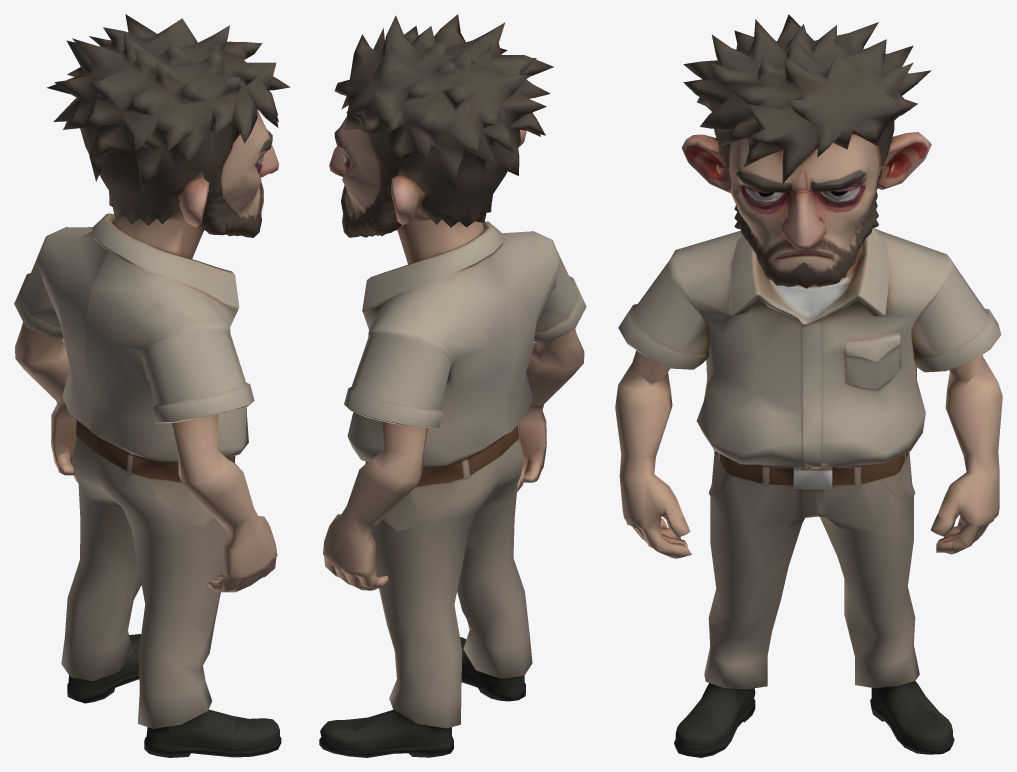
Rendered from Gemini_Generated_Image_n1gkvin1gkvin1gk.png.glb.
3 renders of one model, left to right at view 1: azimuth 30°, elevation 25°; view 2: azimuth 150°, elevation 25°; view 3: azimuth 270°, elevation 25°, orthographic. The views are drawn at different scales.
Visible parts, largest first — view 1: tripo_node_8a759021-f8c1-4cbb-924f-a9d1c90841c0; view 2: tripo_node_8a759021-f8c1-4cbb-924f-a9d1c90841c0; view 3: tripo_node_8a759021-f8c1-4cbb-924f-a9d1c90841c0.
Boxes of the visible parts, x1,y1,x2,y2 form: tripo_node_8a759021-f8c1-4cbb-924f-a9d1c90841c0: (14,14,290,757); tripo_node_8a759021-f8c1-4cbb-924f-a9d1c90841c0: (319,14,586,757); tripo_node_8a759021-f8c1-4cbb-924f-a9d1c90841c0: (615,14,1002,757).
Size of the model in its own units: 0.3145 by 0.998 by 0.502.
Materials: 1 (1 with a texture image).
